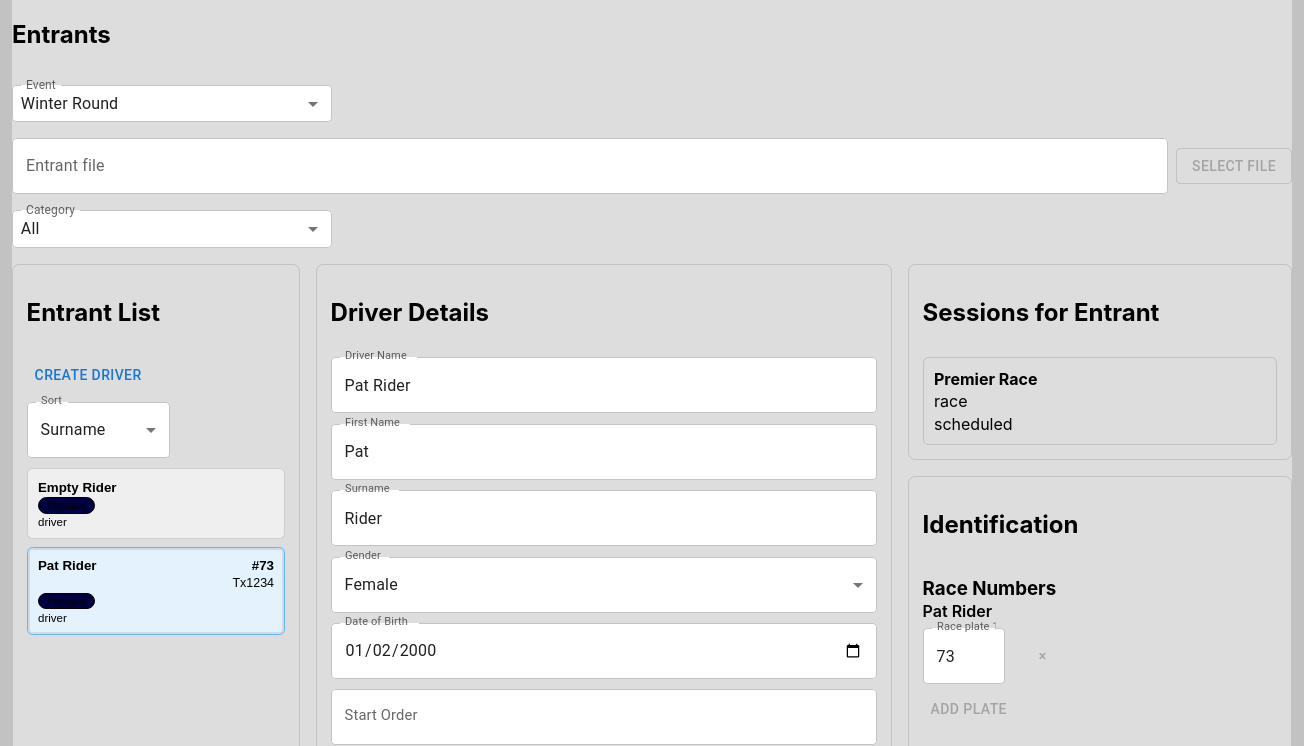
Scenario: EntrantsPage integration › updates Entrant Details and Identification from the same selected entrant state when a card is clicked
This screenshot has width=1304, height=746.
Check: the field named "Entrant Name" holds "Pat Rider", box top-left (331, 357), bottom-right (877, 413)
Check: the field named "Race plate Pat Rider 1" is shown, box top-left (923, 628), bottom-right (1005, 684)
Click the button "Empty Rider Premier driver". click: {"x": 156, "y": 504}
box: top-left (27, 468), bottom-right (285, 539)
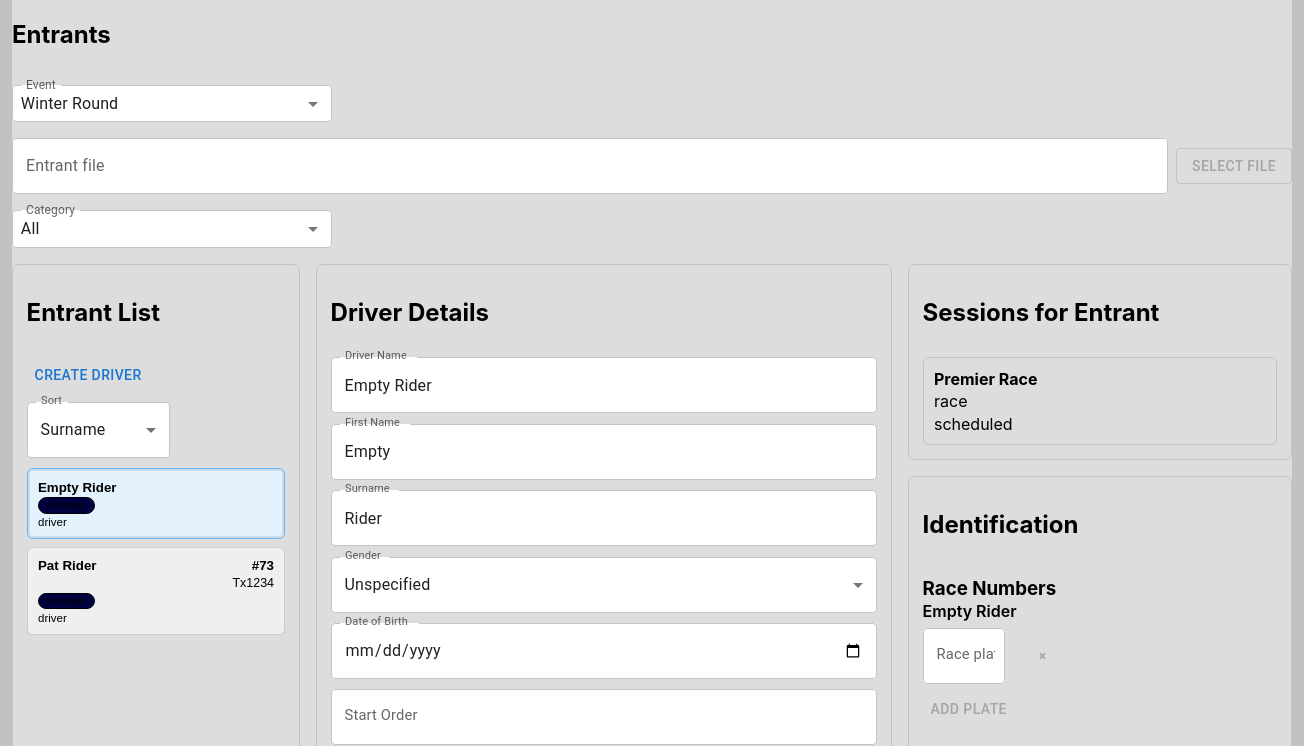
Check: the field named "Entrant Name" holds "Empty Rider", box top-left (331, 357), bottom-right (877, 413)
Check: the field named "Race plate Empty Rider 1" is shown, box top-left (923, 628), bottom-right (1005, 684)
